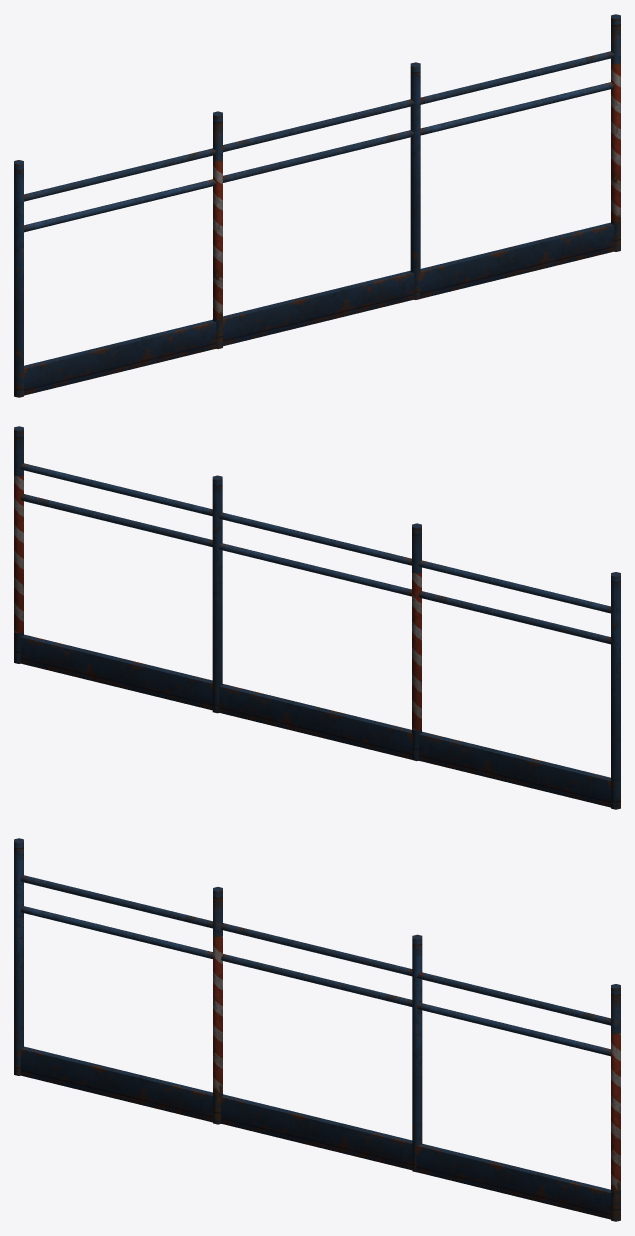
Rendered from Stage-gongchang-bianlan2.FBX.
3 views of the same model, one above another, from view 1: azimuth 30°, elevation 25°; view 2: azimuth 150°, elevation 25°; view 3: azimuth 330°, elevation 25° (orthographic).
Parts seen in each view (by area): view 1: Object12; view 2: Object12; view 3: Object12.
Boxes of the visible parts, box(x1,y1,x2,y2) form: Object12: box(14, 14, 620, 397); Object12: box(14, 426, 620, 809); Object12: box(14, 838, 620, 1221).
Bounding box in the file's own units: 16.51 × 0.2741 × 6.06.
